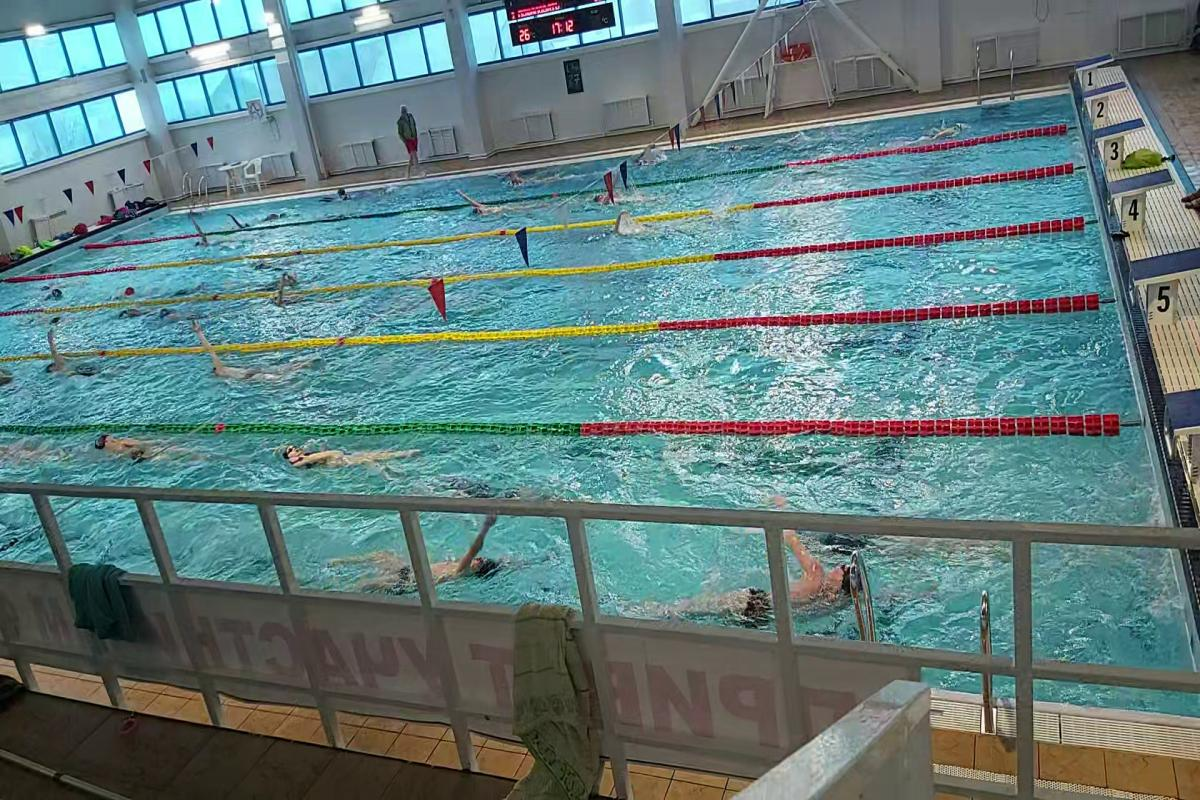swimmer: (645, 538, 863, 628), (325, 535, 525, 594), (188, 329, 322, 392), (74, 425, 212, 474), (263, 436, 423, 478), (28, 336, 123, 388), (459, 190, 513, 220), (591, 180, 637, 205), (265, 281, 298, 315), (156, 306, 187, 323)
